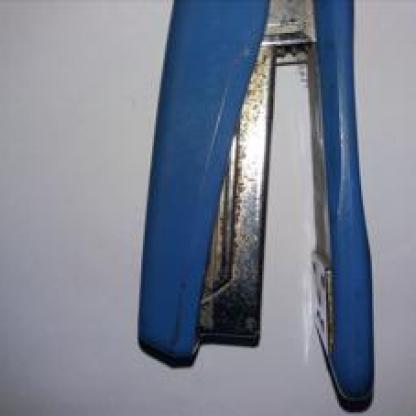stapler: (112, 0, 414, 414)
